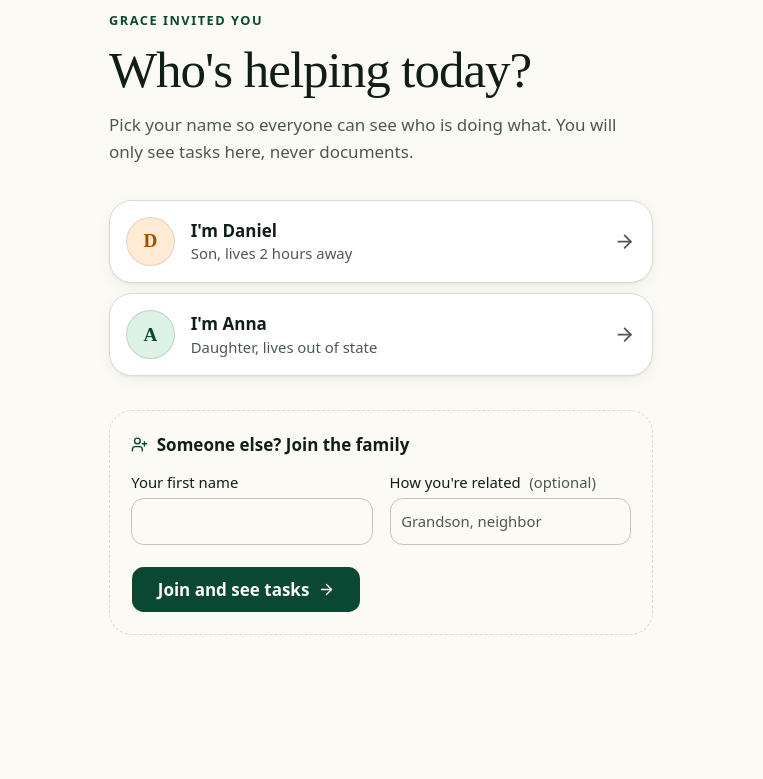
Test: Family page › asks who you are, then shows tasks and never fact values
Click the button "D I'm Daniel Son, lives 2 hours away" at (150, 241), box [109,200,653,283]
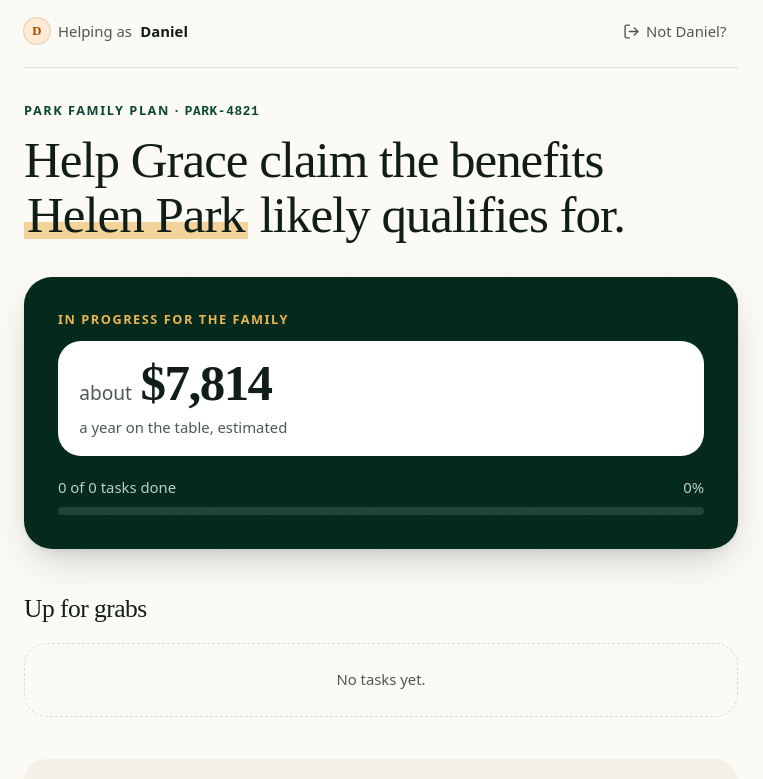
Now the text "Help Grace claim the benefits" is shown, box [24,132,625,243]
